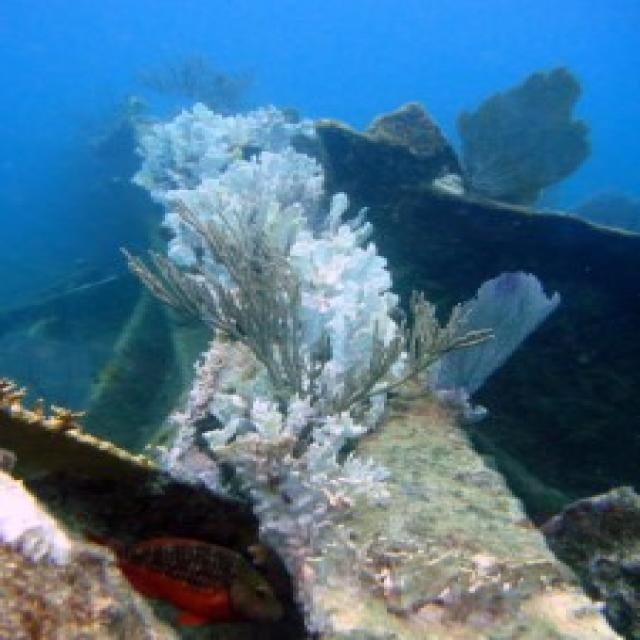Bleached: (134, 118, 404, 378), (209, 390, 378, 542), (1, 465, 95, 564)
